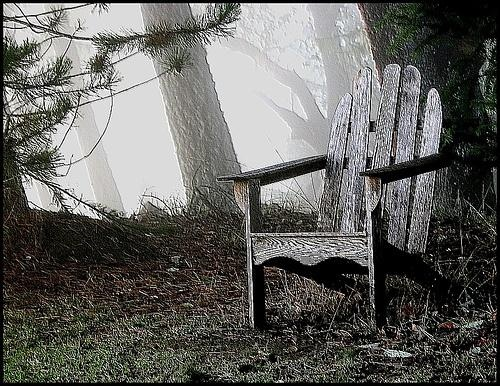chair: (220, 64, 461, 331)
